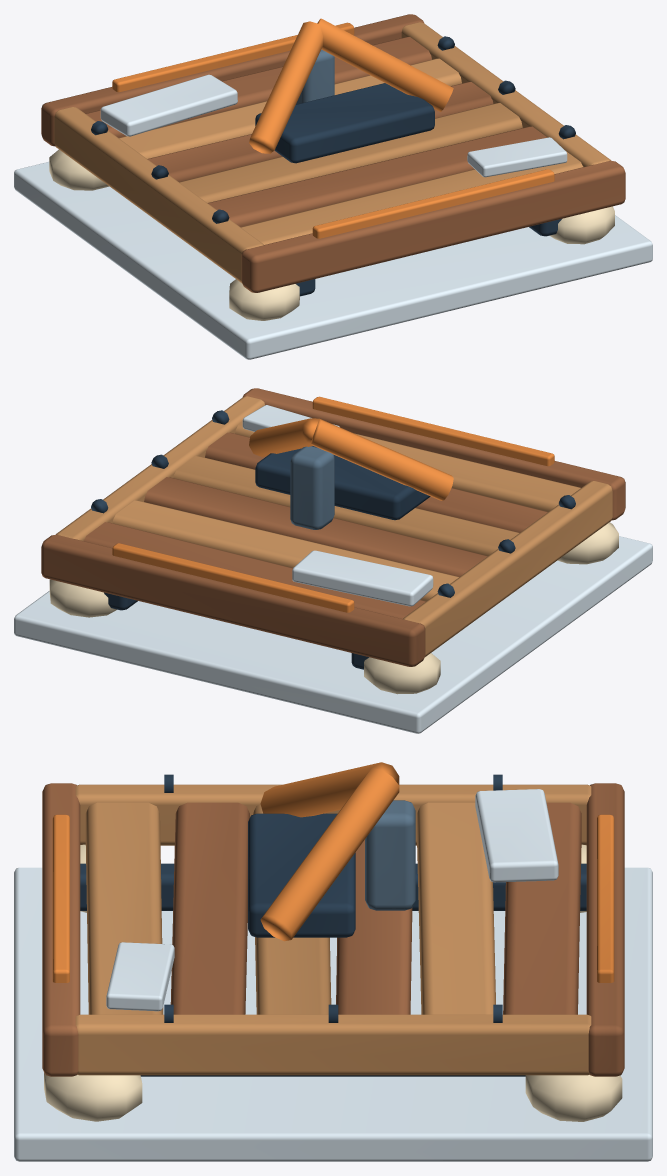
File: pad_upgrade.glb
The picture shows the model from 3 angles, top to bottom: view 1: azimuth 30°, elevation 25°; view 2: azimuth 150°, elevation 25°; view 3: azimuth 270°, elevation 25°; orthographic projection. The views are drawn at different scales.
Parts seen in each view (by area): view 1: pad_upgrade; view 2: pad_upgrade; view 3: pad_upgrade.
Boxes of the visible parts, bbox=[...] form: pad_upgrade: bbox=[14, 14, 652, 359]; pad_upgrade: bbox=[14, 388, 652, 733]; pad_upgrade: bbox=[14, 762, 652, 1161].
Bounding box in the file's own units: 2.02 × 0.9173 × 2.02.
